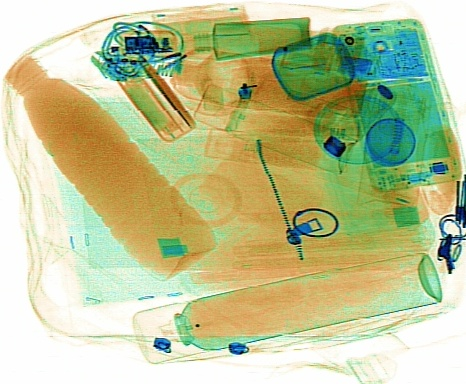pressure: (129, 247, 442, 366), (192, 81, 355, 173)
